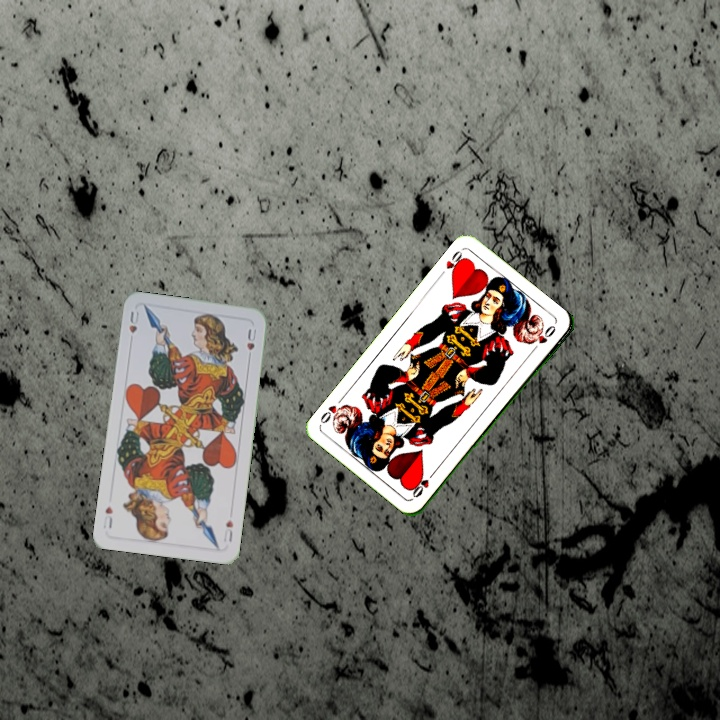HO: (408, 466, 438, 500), (442, 246, 469, 278)
HU: (125, 307, 142, 336), (220, 516, 236, 544)
